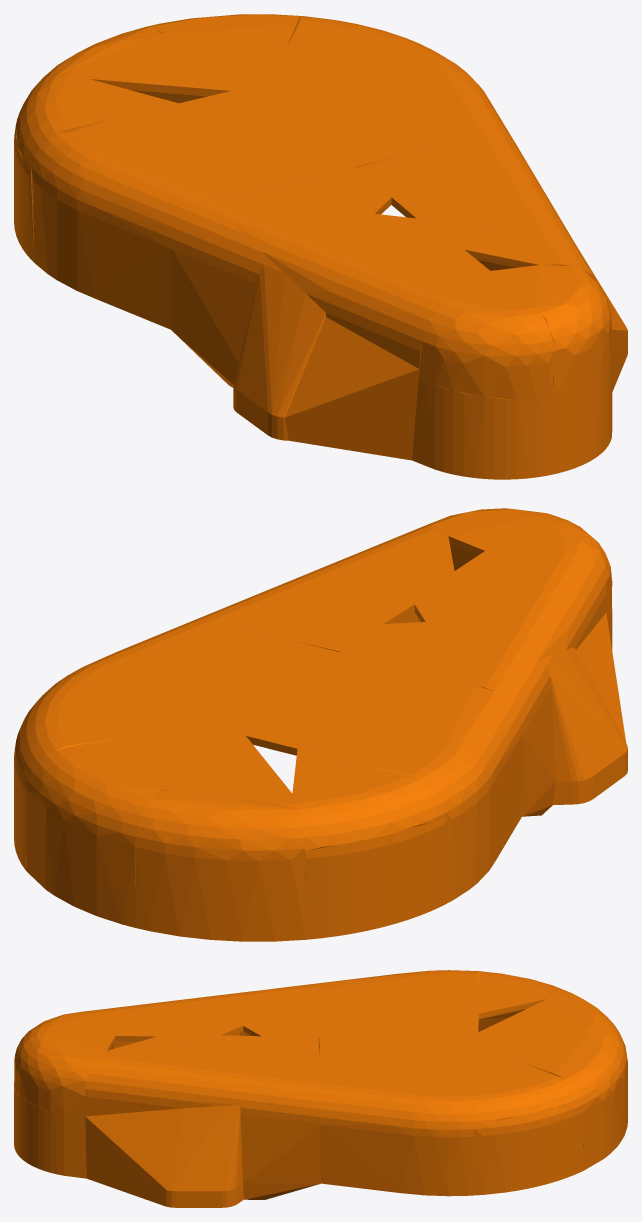
Rendered from RARM_LINK6.dae.
3 renders of one model, top to bottom at view 1: azimuth 30°, elevation 25°; view 2: azimuth 150°, elevation 25°; view 3: azimuth 270°, elevation 25°, orthographic. The views are drawn at different scales.
Visible parts, largest first — view 1: RARM_LINK6; view 2: RARM_LINK6; view 3: RARM_LINK6.
Part boxes in pixels (x1=…): RARM_LINK6: x1=14, y1=14, x2=627, y2=479; RARM_LINK6: x1=14, y1=508, x2=627, y2=941; RARM_LINK6: x1=14, y1=970, x2=627, y2=1207.
Size of the model in its own units: 0.058 by 0.0198 by 0.1004.
